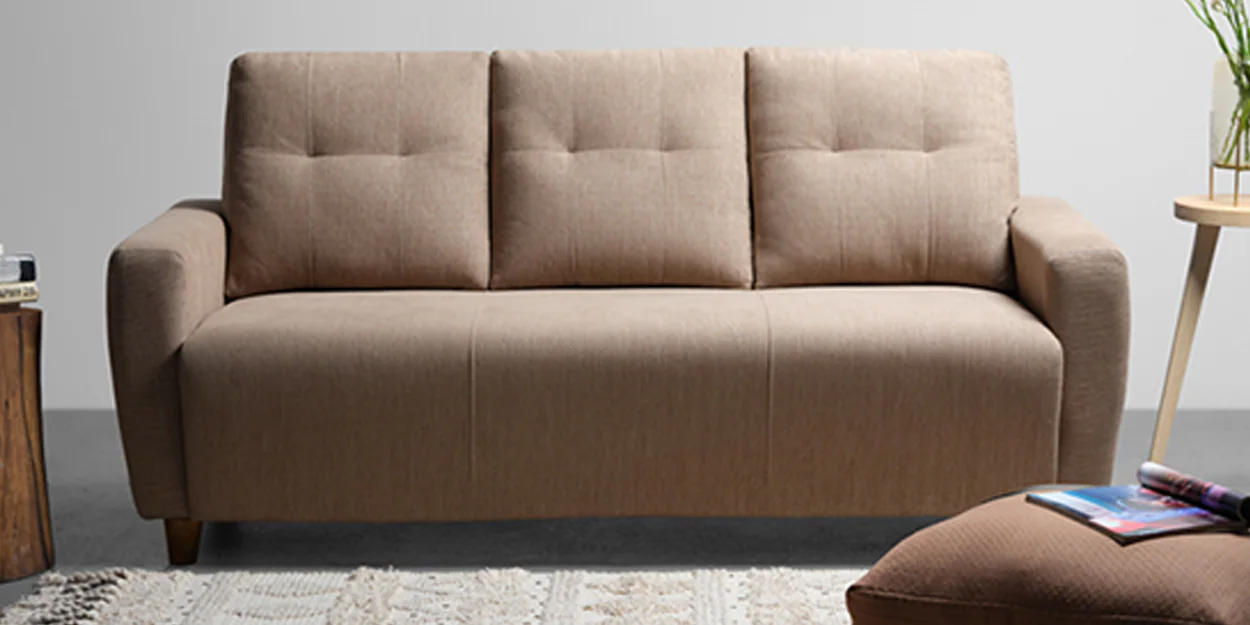3seatersofa: (108, 47, 1128, 562)
backrest: (223, 48, 1017, 296)
leftarmrest: (1010, 198, 1129, 482)
leg: (164, 519, 202, 563)
rightarmrest: (108, 200, 225, 517)
seat: (183, 287, 1061, 520)
